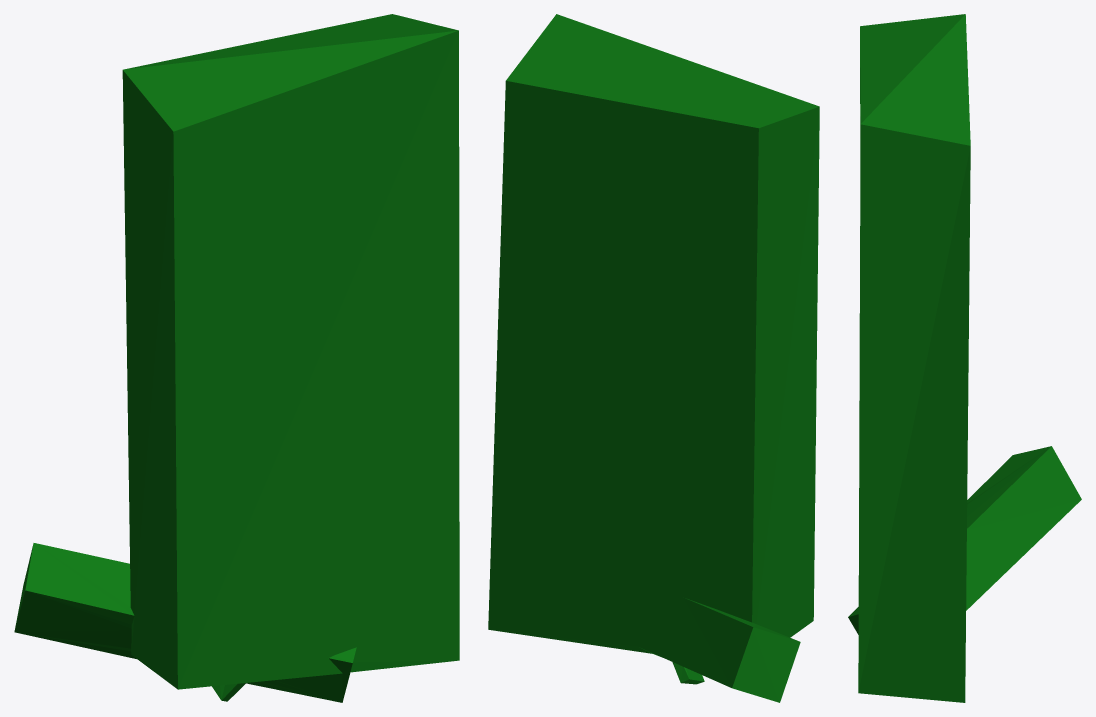
3 renders of one model, left to right at view 1: azimuth 30°, elevation 25°; view 2: azimuth 150°, elevation 25°; view 3: azimuth 270°, elevation 25°, orthographic. The views are drawn at different scales.
Parts seen in each view (by area): view 1: 003_Cube.025; view 2: 003_Cube.025; view 3: 003_Cube.025.
Boxes of the visible parts, x1,y1,x2,y2 form: 003_Cube.025: (14,14,459,702); 003_Cube.025: (488,14,819,702); 003_Cube.025: (848,14,1081,702).
Size of the model in its own units: 7.57 by 12.9 by 4.63.
